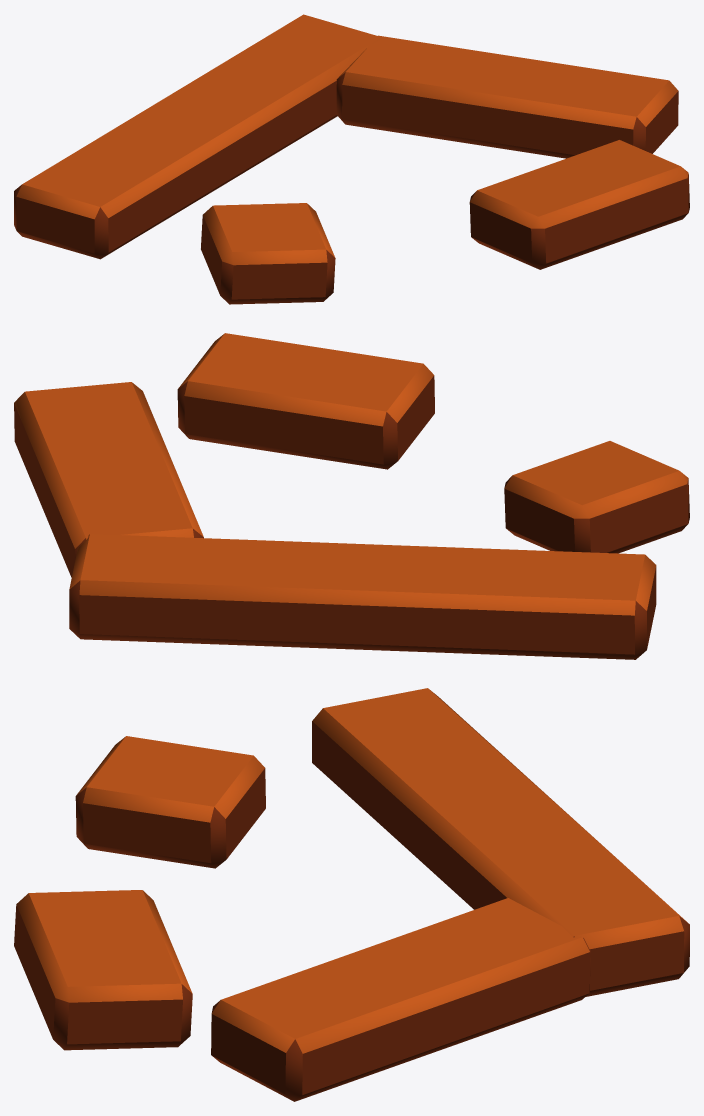
Rendered from crate_debris.glb.
3 views of the same model, one above another, from view 1: azimuth 30°, elevation 25°; view 2: azimuth 150°, elevation 25°; view 3: azimuth 270°, elevation 25° (orthographic). The views are drawn at different scales.
Parts seen in each view (by area): view 1: crate_debris; view 2: crate_debris; view 3: crate_debris.
Part boxes in pixels (x1=…): crate_debris: x1=14, y1=14, x2=689, y2=304; crate_debris: x1=14, y1=333, x2=689, y2=659; crate_debris: x1=14, y1=688, x2=689, y2=1101.
Size of the model in its own units: 0.8508 by 0.0758 by 0.6775.
1 material, 1 textured.
